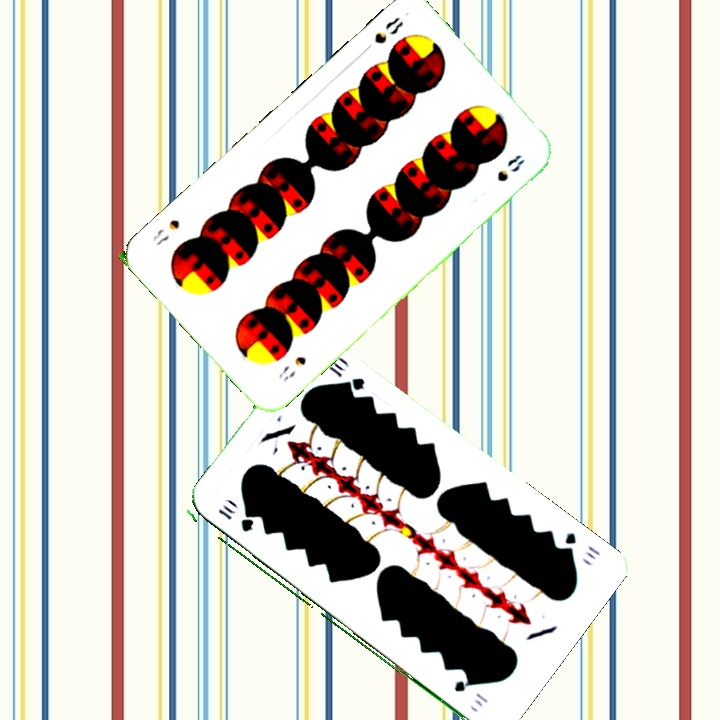G10: (555, 528, 603, 562), (214, 501, 255, 535)
S8: (358, 13, 406, 56), (274, 352, 309, 384)
